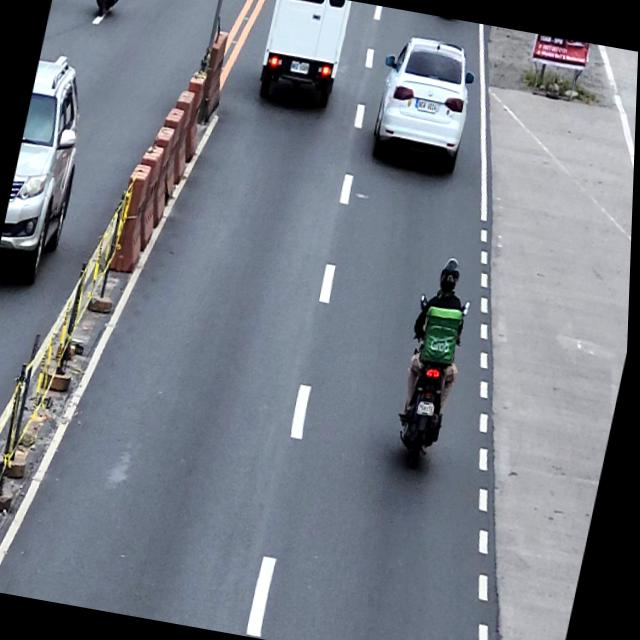Car: (0, 50, 99, 288), (366, 31, 482, 170), (254, 0, 351, 109)
License-Plate: (415, 98, 439, 114), (418, 399, 438, 417), (289, 60, 310, 76)
Motorcycle: (387, 290, 474, 472), (87, 0, 128, 19)
